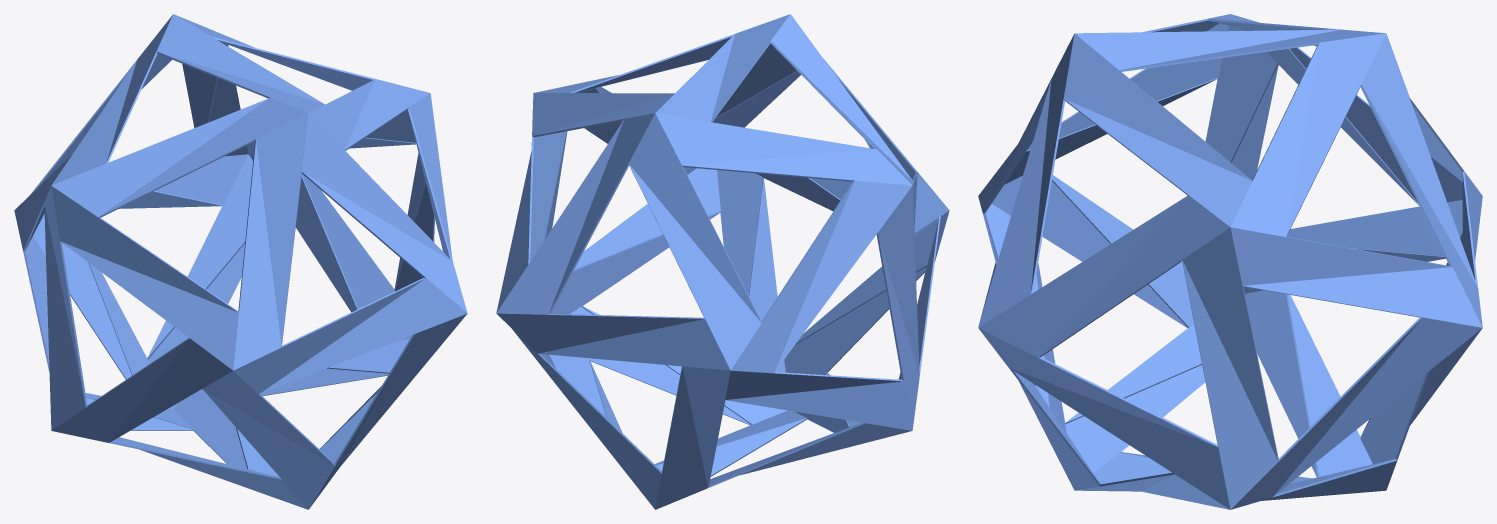
File: Icosahedron1.glb
3 views of the same model, side by side, from view 1: azimuth 30°, elevation 25°; view 2: azimuth 150°, elevation 25°; view 3: azimuth 270°, elevation 25° (orthographic). The views are drawn at different scales.
Visible parts, largest first — view 1: root; view 2: root; view 3: root.
Boxes of the visible parts, left/top/right/bottom form: root: left=14, top=14, right=467, bottom=509; root: left=496, top=14, right=949, bottom=509; root: left=978, top=14, right=1482, bottom=509.
Size of the model in its own units: 4.85 by 4.85 by 4.85.
